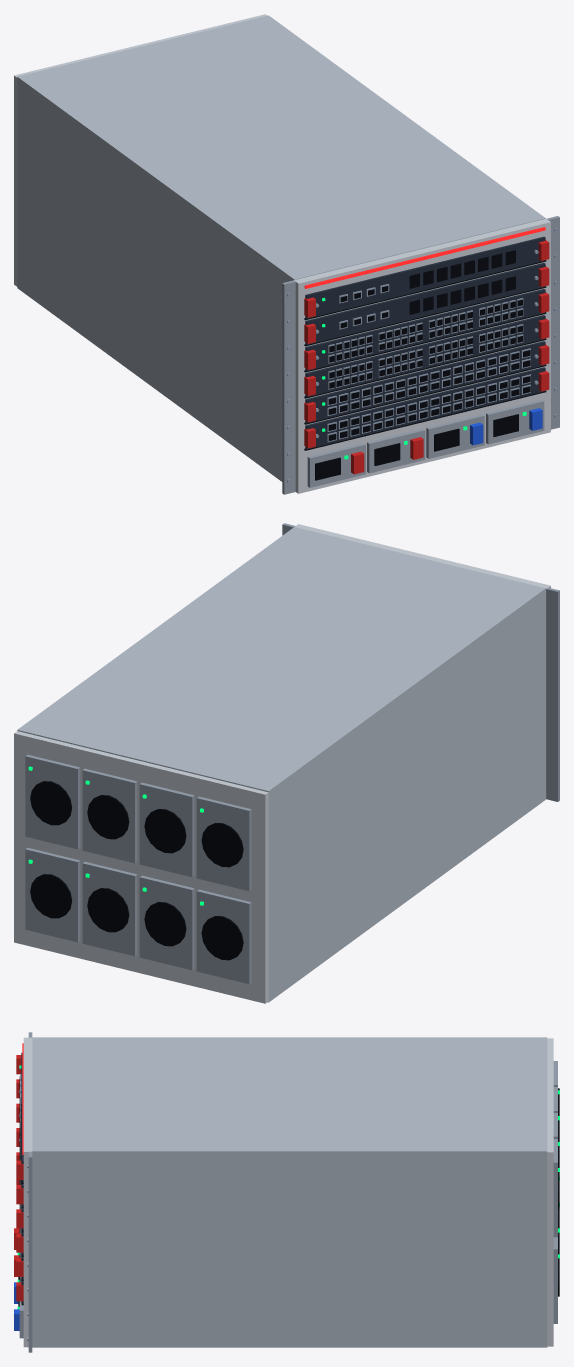
File: h3c_s10500x_chassis_8u.glb
3 views of the same model, one above another, from view 1: azimuth 30°, elevation 25°; view 2: azimuth 150°, elevation 25°; view 3: azimuth 270°, elevation 25° (orthographic). The views are drawn at different scales.
Visible parts, largest first — view 1: BATCH_MAT_CHASSIS_BODY, BATCH_MAT_SLOT_CARD, BATCH_MAT_CAVITY_DARK, BATCH_MAT_FACEPLATE, BATCH_MAT_RACK_EAR, BATCH_MAT_PORT_SHIELD, BATCH_MAT_EJECTOR_LEVER, BATCH_MAT_BRAND_ACCENT, BATCH_MAT_SHELF_PSU_A, BATCH_MAT_SHELF_PSU_B; view 2: BATCH_MAT_CHASSIS_BODY, BATCH_MAT_RACK_EAR, BATCH_MAT_FACEPLATE, BATCH_MAT_CAVITY_DARK; view 3: BATCH_MAT_CHASSIS_BODY, BATCH_MAT_FACEPLATE, BATCH_MAT_RACK_EAR, BATCH_MAT_EJECTOR_LEVER, BATCH_MAT_CAVITY_DARK.
Part boxes in pixels (x1,y1,x2,y2): BATCH_MAT_CHASSIS_BODY: [17, 15, 545, 481]; BATCH_MAT_SLOT_CARD: [305, 236, 545, 449]; BATCH_MAT_CAVITY_DARK: [304, 250, 546, 480]; BATCH_MAT_FACEPLATE: [14, 14, 550, 493]; BATCH_MAT_RACK_EAR: [282, 216, 559, 494]; BATCH_MAT_PORT_SHIELD: [287, 228, 558, 483]; BATCH_MAT_EJECTOR_LEVER: [304, 240, 549, 448]; BATCH_MAT_BRAND_ACCENT: [304, 227, 545, 288]; BATCH_MAT_SHELF_PSU_A: [351, 437, 423, 474]; BATCH_MAT_SHELF_PSU_B: [470, 408, 542, 445]; BATCH_MAT_CHASSIS_BODY: [17, 527, 545, 1002]; BATCH_MAT_RACK_EAR: [25, 523, 559, 984]; BATCH_MAT_FACEPLATE: [14, 524, 550, 1003]; BATCH_MAT_CAVITY_DARK: [30, 781, 243, 960]; BATCH_MAT_CHASSIS_BODY: [32, 1037, 547, 1347]; BATCH_MAT_FACEPLATE: [23, 1037, 553, 1347]; BATCH_MAT_RACK_EAR: [19, 1032, 557, 1352]; BATCH_MAT_EJECTOR_LEVER: [16, 1055, 23, 1301]; BATCH_MAT_CAVITY_DARK: [18, 1076, 559, 1306].
Bounding box in the file's own units: 0.4826 × 0.3536 × 0.8905.
